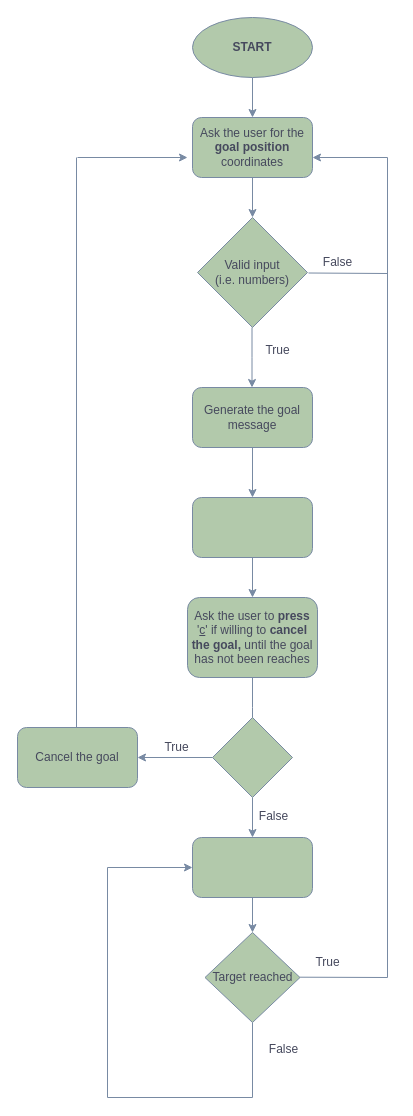
The diagram is 413 pixels wide and 1116 high, and some of its shapes have lost their labels. Here are the shapes that lost their labels. From the top down, the centre of each, then its label:
At pixel 252 527: "Send the goal to the action server".
At pixel 252 757: "' c ' pressed".
At pixel 252 867: "Head towards the goal".
